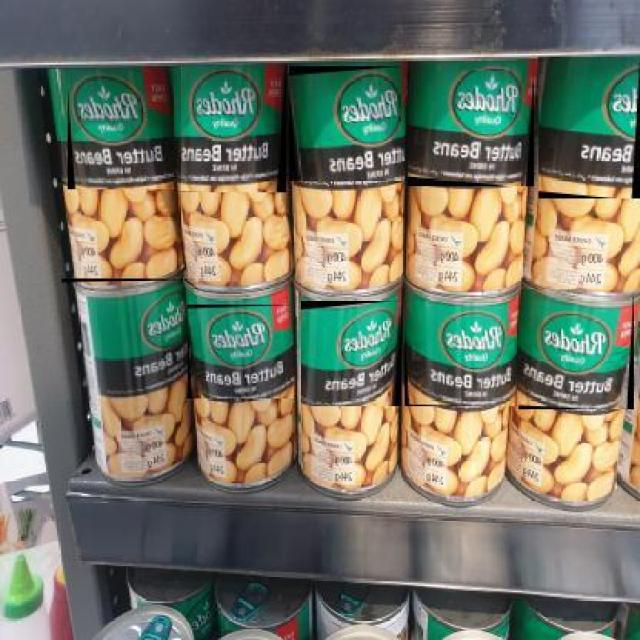Beans: (60, 280, 194, 402), (406, 70, 534, 188), (537, 57, 638, 201), (517, 289, 634, 411), (178, 66, 285, 194), (288, 66, 404, 182), (65, 68, 173, 190), (403, 307, 517, 408), (298, 301, 402, 408), (186, 305, 294, 400)
